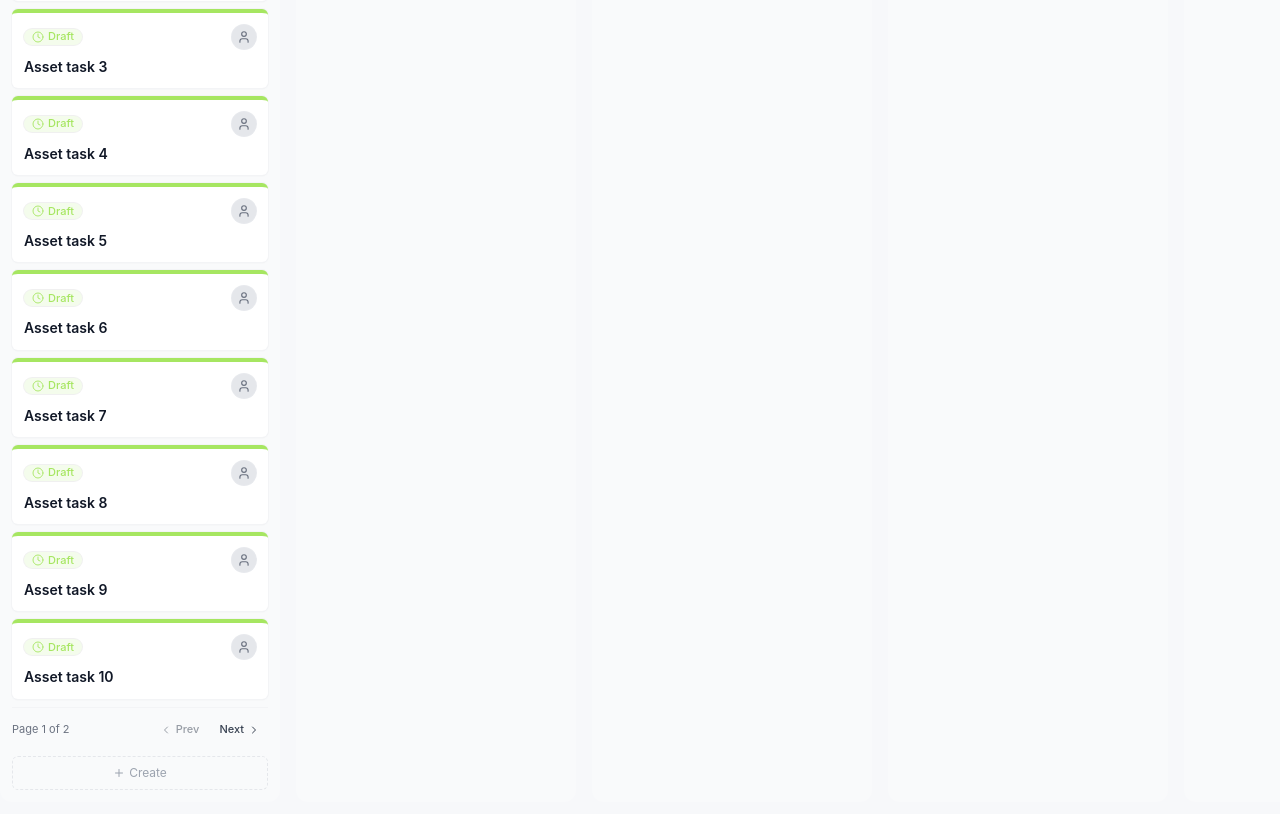
Test: BoardView › paginates each populated column independently
(page scrolled)
expect the text "Asset task 10" is shown: met, box left=24, top=668, right=114, bottom=685
expect the text "Asset task 11" is not shown: met
What coordinates should you click on to do the following:
click the button "Next"
I would click on:
 (240, 730)
Its box is left=211, top=716, right=268, bottom=744.
(page scrolled)
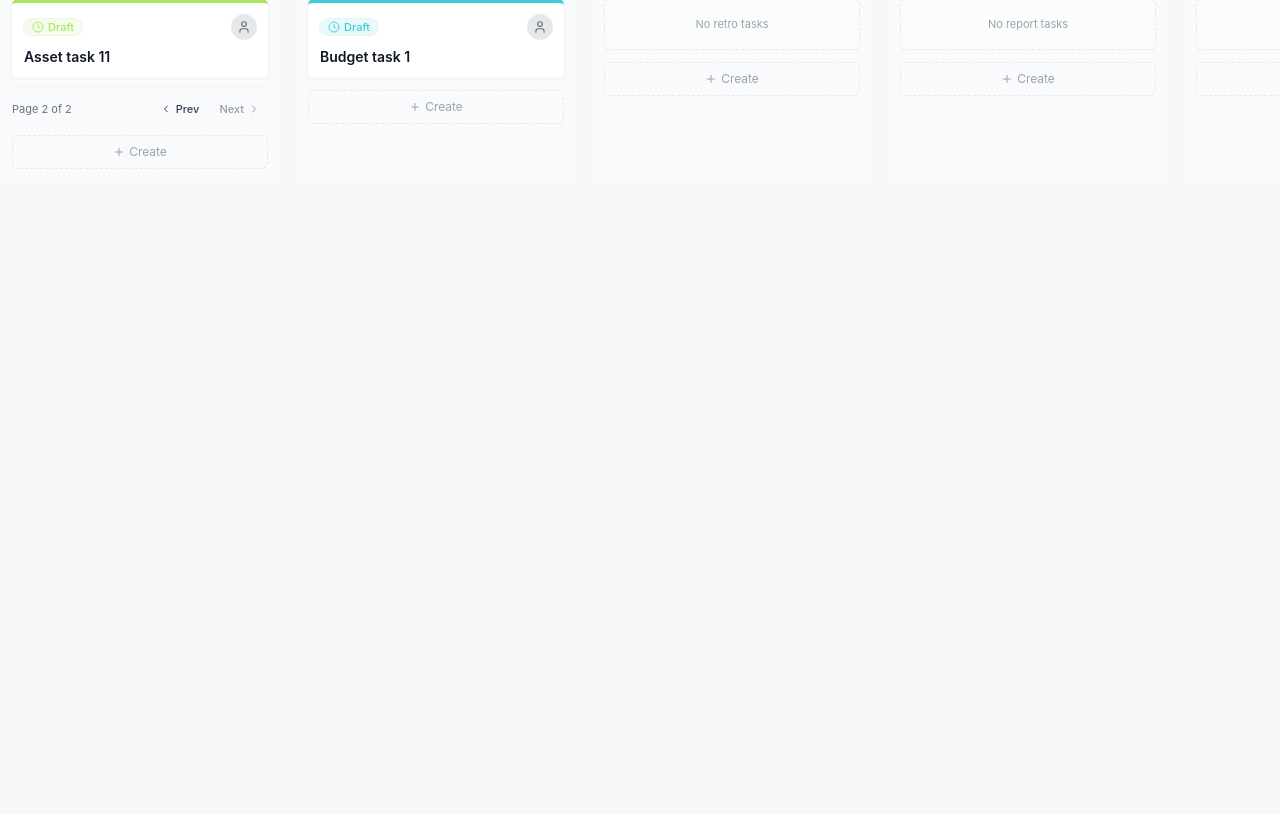
expect the text "Budget task 1" is shown: met, box left=320, top=48, right=410, bottom=65
expect the text "Asset task 11" is shown: met, box left=24, top=48, right=110, bottom=65
expect the text "Page 2 of 2" is shown: met, box left=12, top=101, right=72, bottom=118
